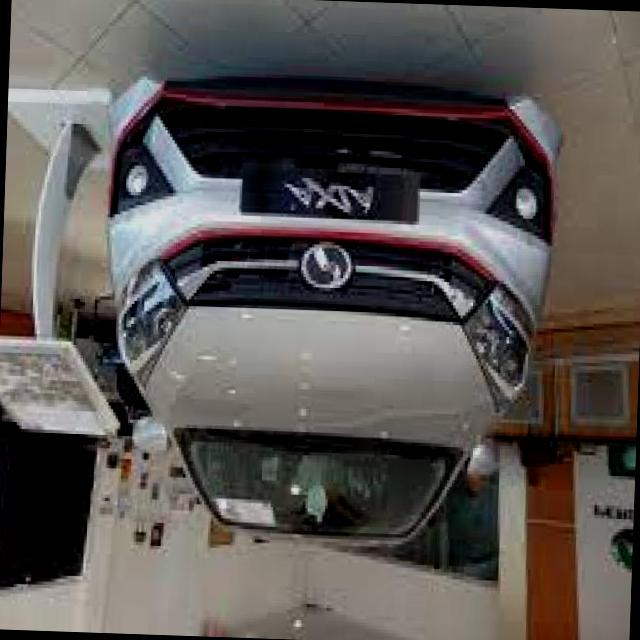PeroduaAxia: (91, 74, 564, 560)
